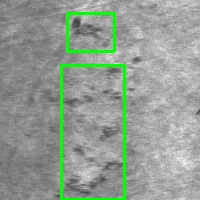rolled-in_scale: (61, 65, 124, 199), (67, 13, 114, 51)
